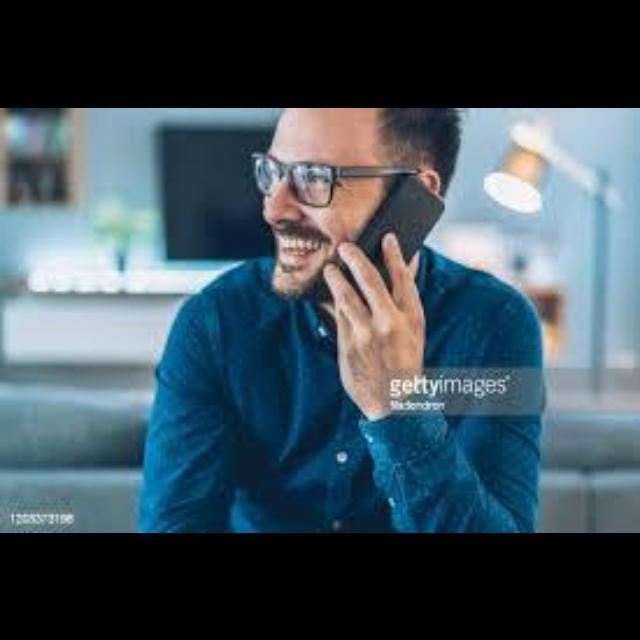Phone: (322, 176, 446, 304)
